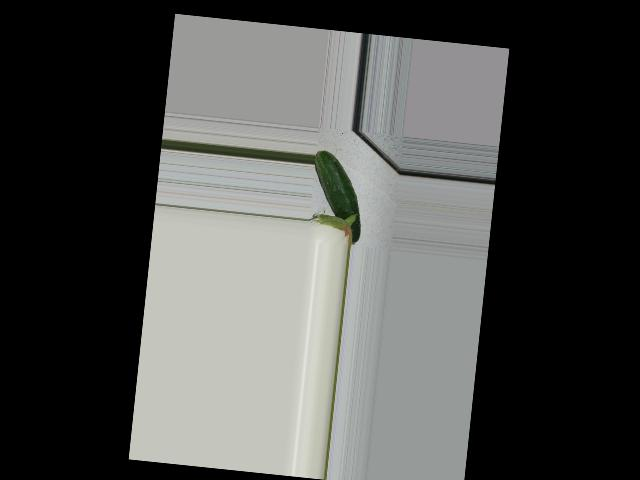cucumber: (306, 149, 367, 245)
